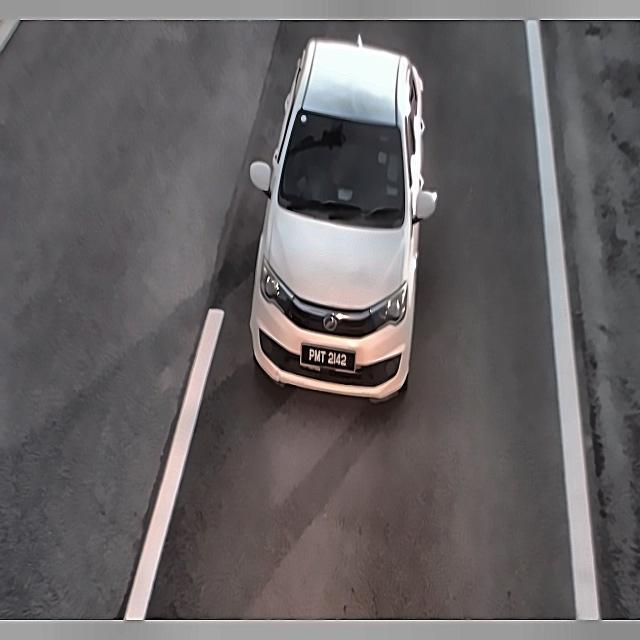car: (299, 336, 356, 378)
